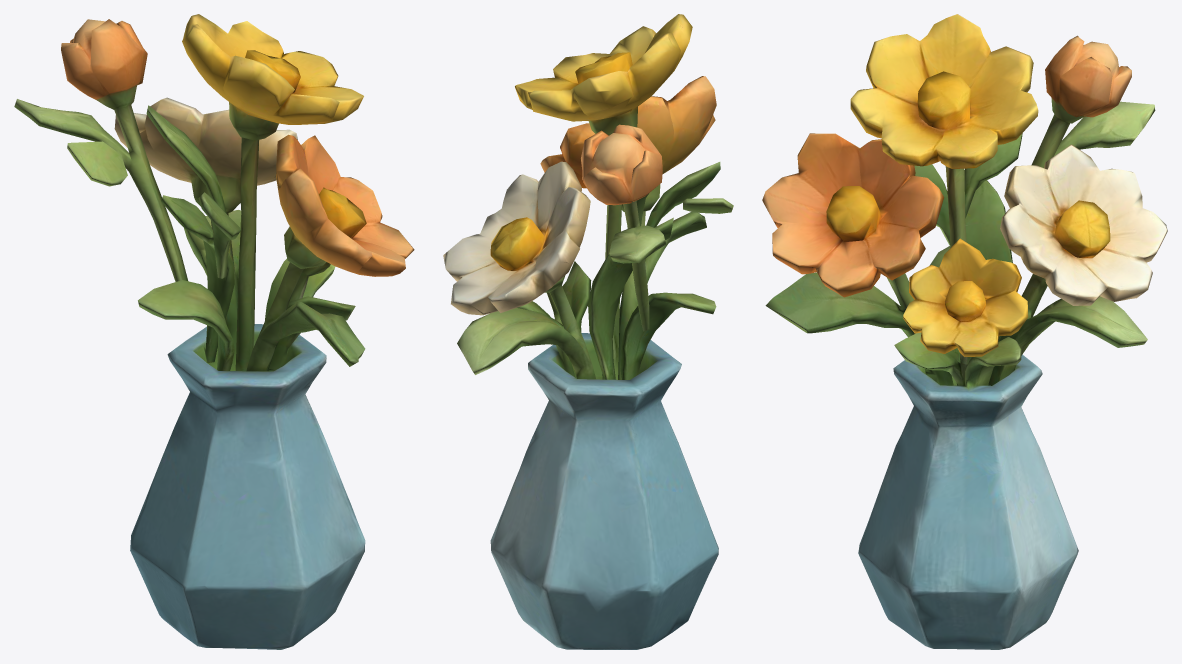
3 views of the same model, side by side, from view 1: azimuth 30°, elevation 25°; view 2: azimuth 150°, elevation 25°; view 3: azimuth 270°, elevation 25° (orthographic). The views are drawn at different scales.
Parts seen in each view (by area): view 1: tripo_node_4969f6ac-0410-4c4e-b557-270ad828cc52; view 2: tripo_node_4969f6ac-0410-4c4e-b557-270ad828cc52; view 3: tripo_node_4969f6ac-0410-4c4e-b557-270ad828cc52.
Boxes of the visible parts, <box> form: tripo_node_4969f6ac-0410-4c4e-b557-270ad828cc52: <box>14,14,414,649</box>; tripo_node_4969f6ac-0410-4c4e-b557-270ad828cc52: <box>443,14,733,649</box>; tripo_node_4969f6ac-0410-4c4e-b557-270ad828cc52: <box>762,14,1167,649</box>.
Bounding box in the file's own units: 0.4966 × 1 × 0.6306.
Materials: 1 (1 with a texture image).
